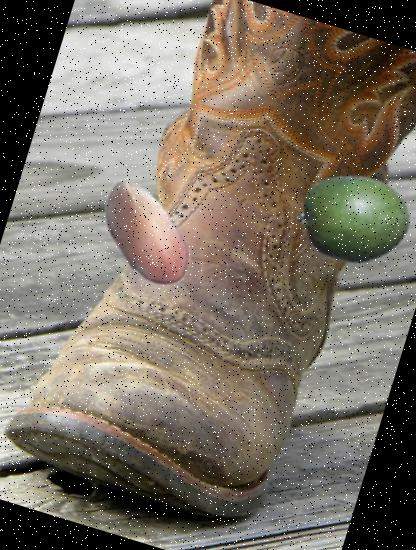Hazelnut: (71, 159, 220, 308)
Mango: (283, 148, 416, 290)
